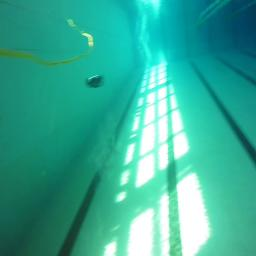Full: (87, 74, 103, 87)
